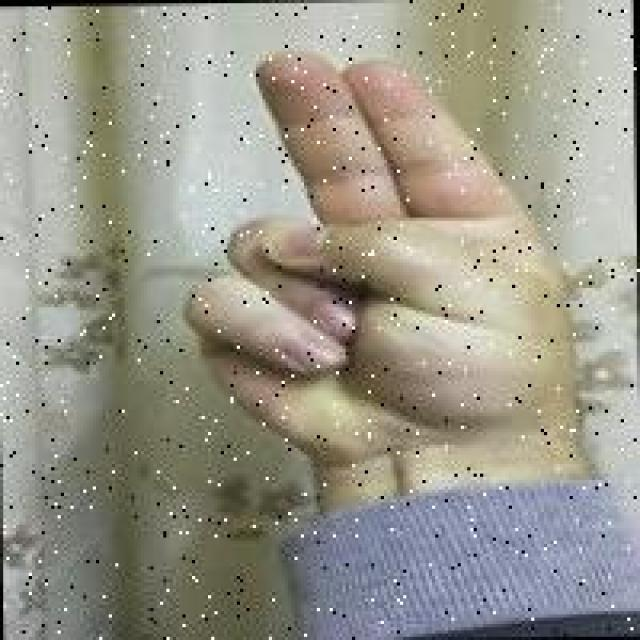U: (178, 35, 596, 474)
